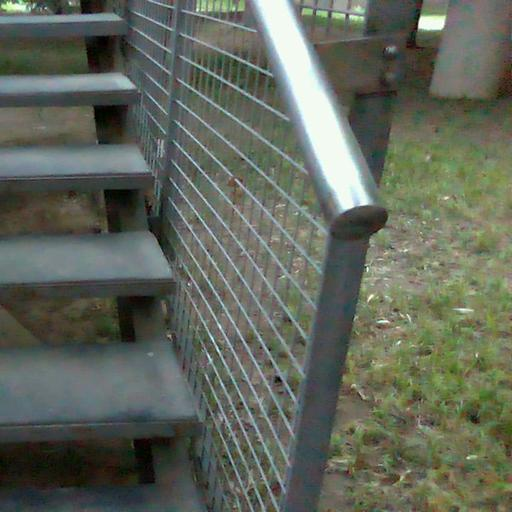stairs: (0, 1, 203, 511)
